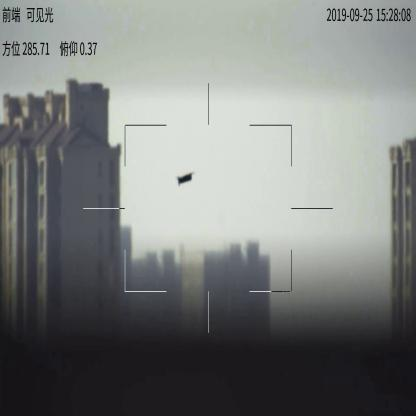uav: (176, 172, 192, 185)
